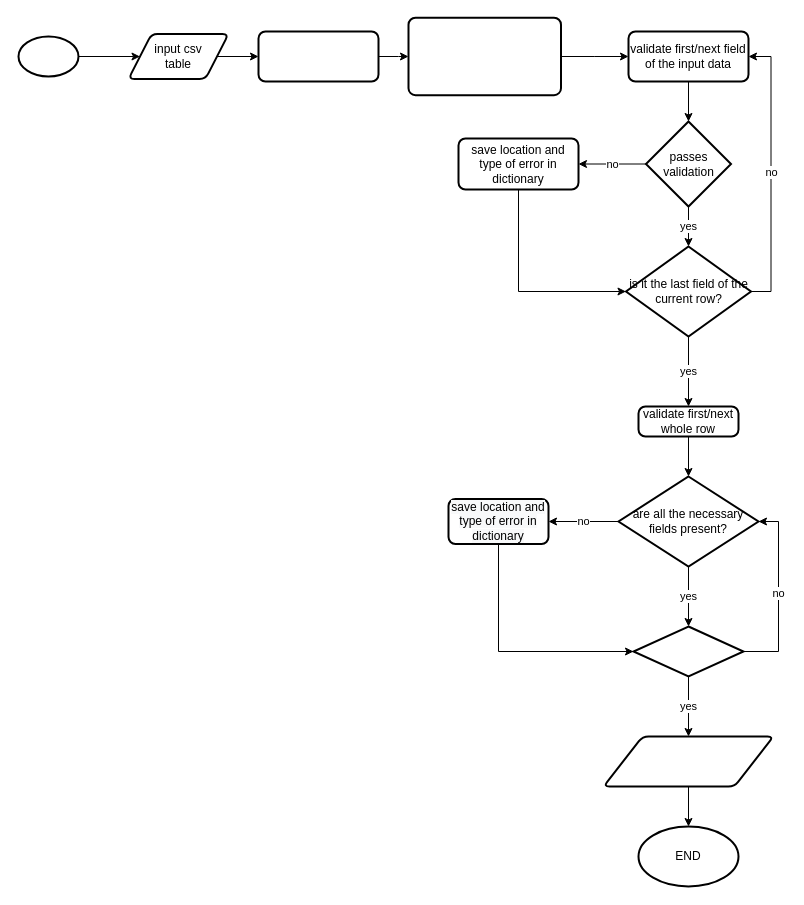
Some shapes in this 804 by 905 pixel diagram are drawn without their labels. Each missing label, with the centre of its shape:
initialize empty dictionary to store errors types and location: pixel 484 56
is this the last row?: pixel 688 651
output dictionary with errors location and types: pixel 688 761
read .csv file as a list of dictionaries: pixel 318 56
START: pixel 48 56
